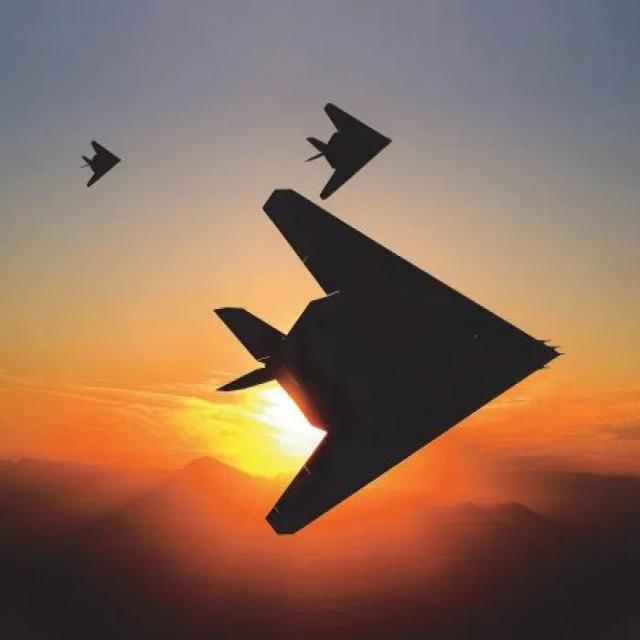F117: (204, 122, 567, 540), (308, 50, 418, 200), (76, 128, 132, 201)
